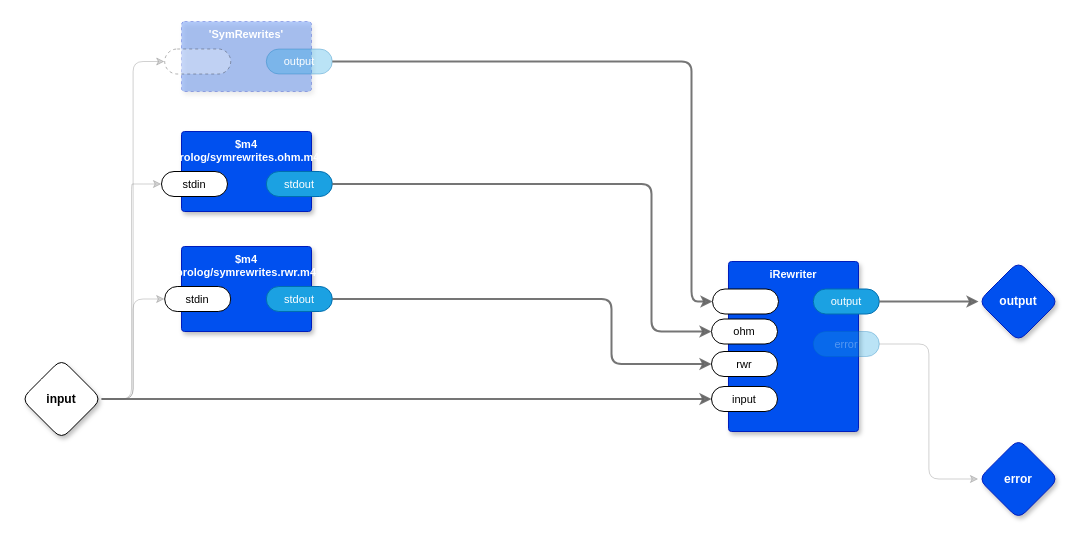
This 1082x544 diagram has some shape labels left out. The centre of each missing label's shape, as x and y in pixels:
go: (x=197, y=61)
grammar name: (x=745, y=301)
